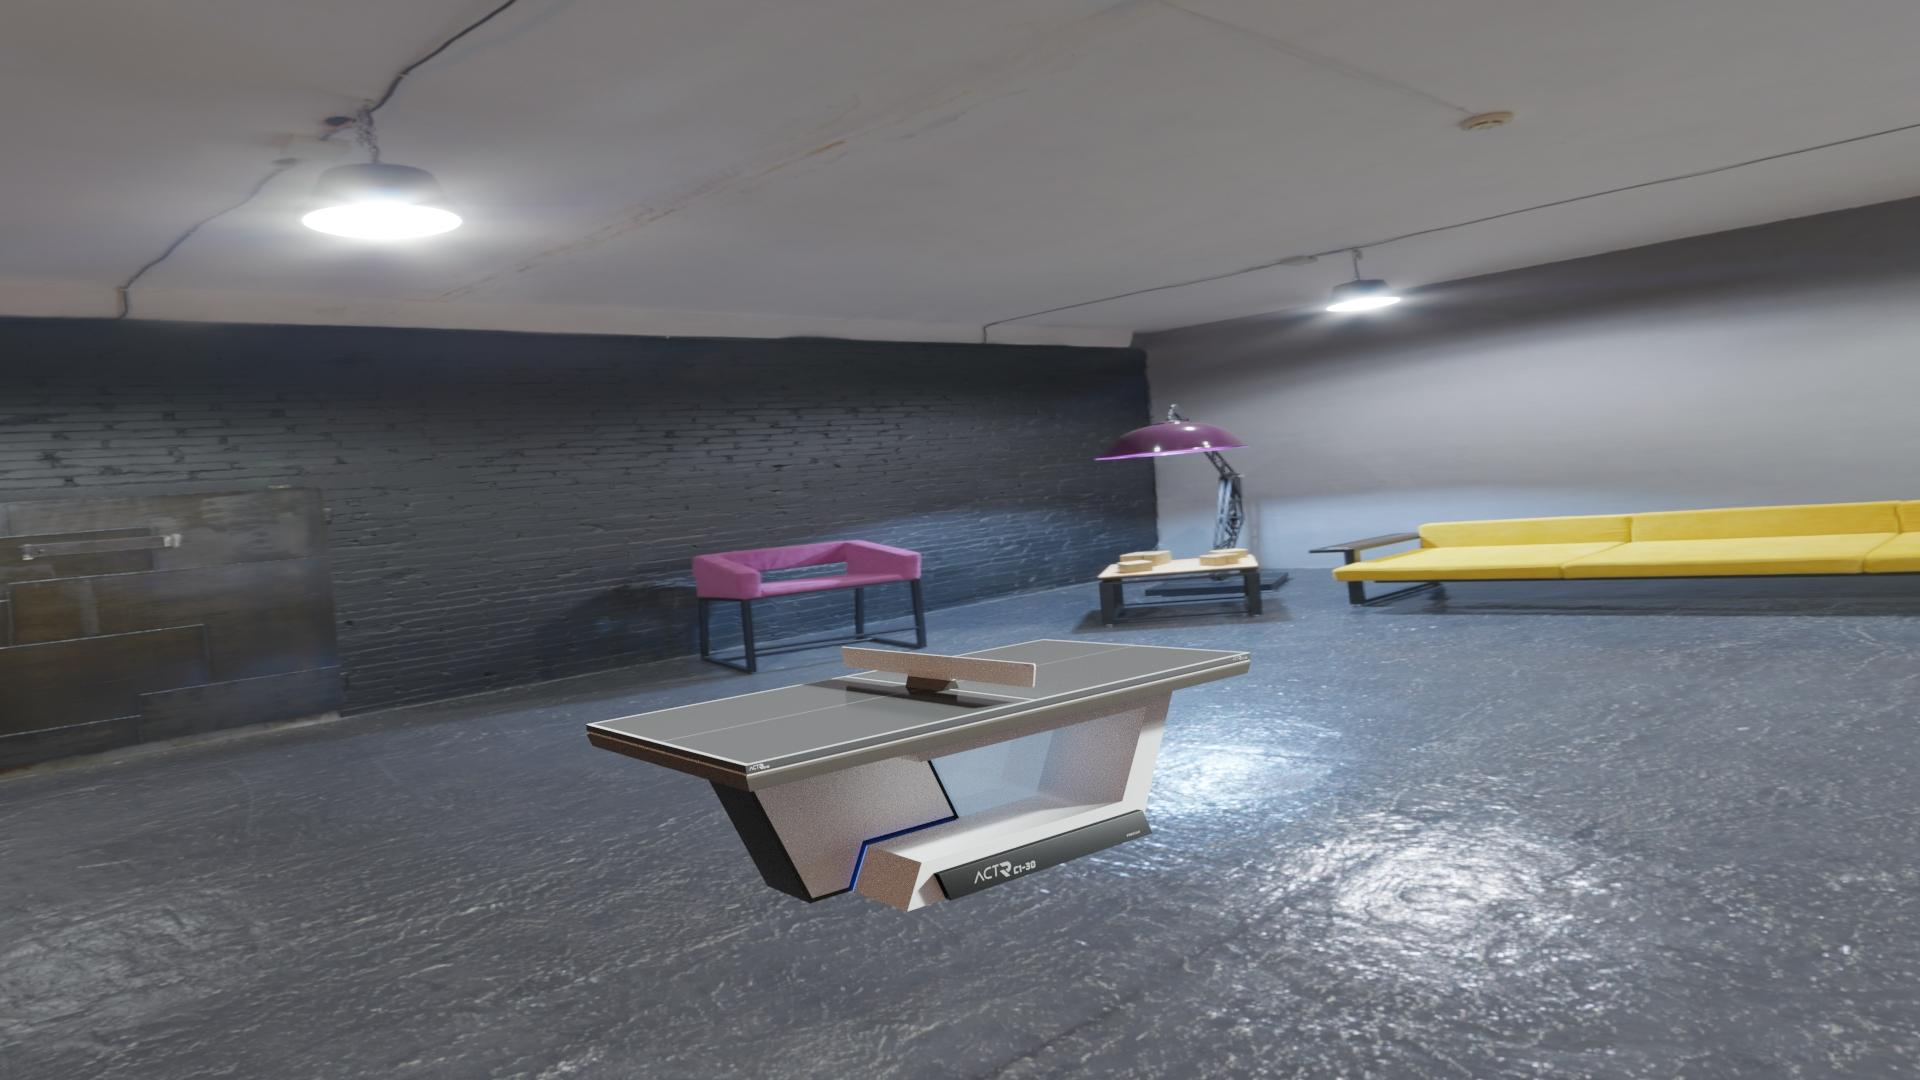table: (592, 640, 1245, 764)
